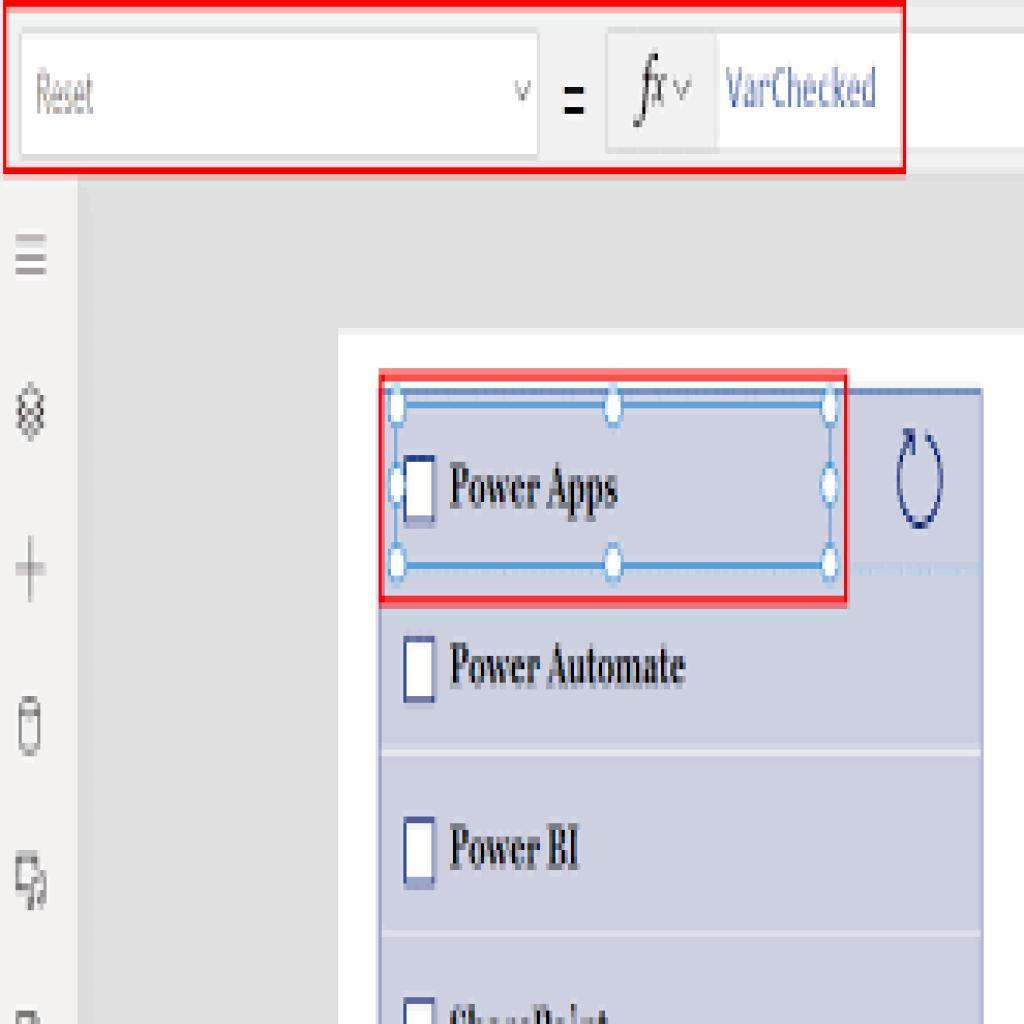button: (608, 29, 902, 147)
checkbox: (401, 633, 442, 710), (402, 815, 443, 892), (404, 453, 441, 531)
dropdown: (18, 27, 543, 159)
icon: (888, 422, 954, 537), (8, 682, 51, 769), (11, 840, 57, 920), (10, 532, 56, 609), (15, 375, 51, 450), (14, 228, 55, 286)
label: (450, 638, 692, 693), (451, 452, 626, 526), (450, 818, 589, 878)
